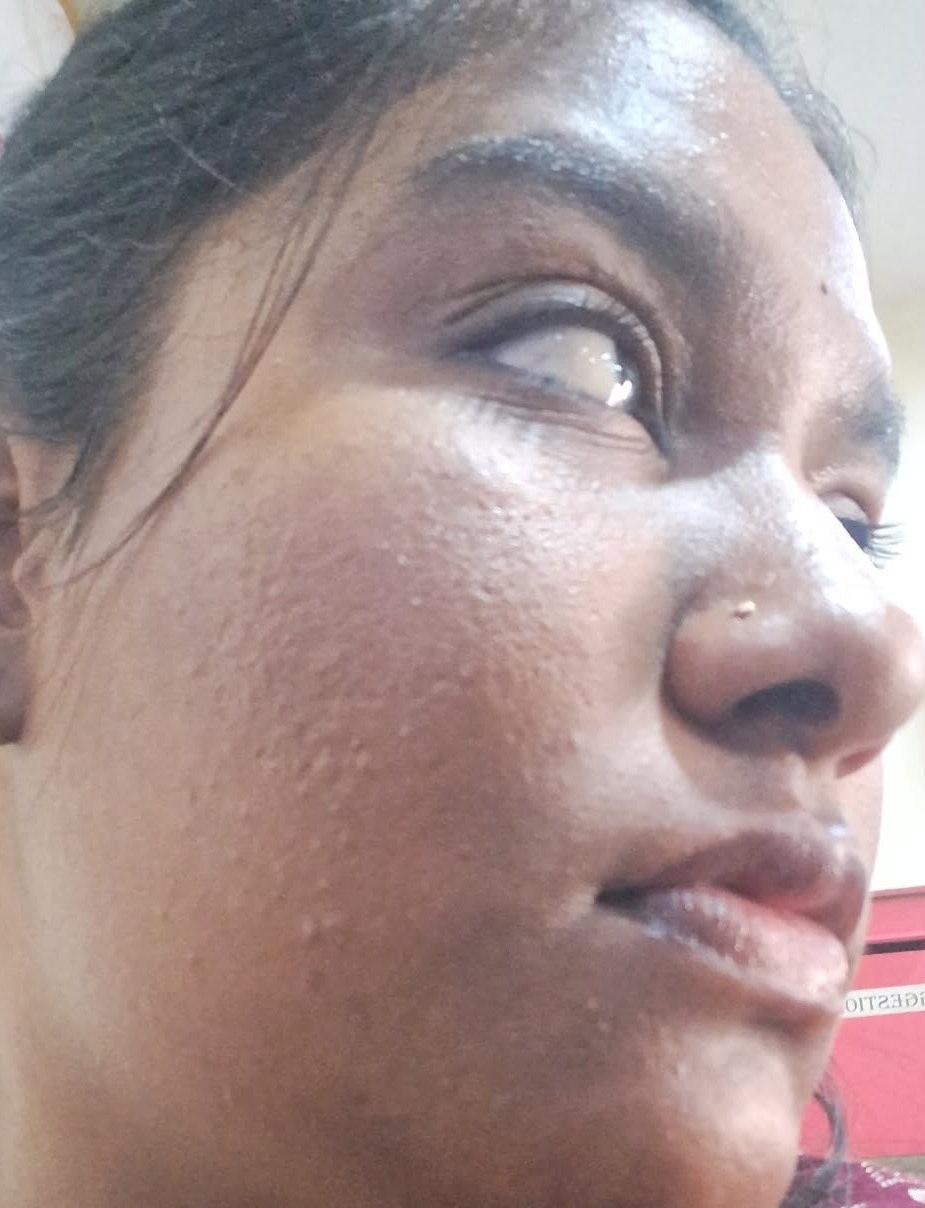closed_comedone: (274, 901, 382, 959), (300, 730, 396, 795), (308, 809, 372, 875), (172, 630, 220, 708)
